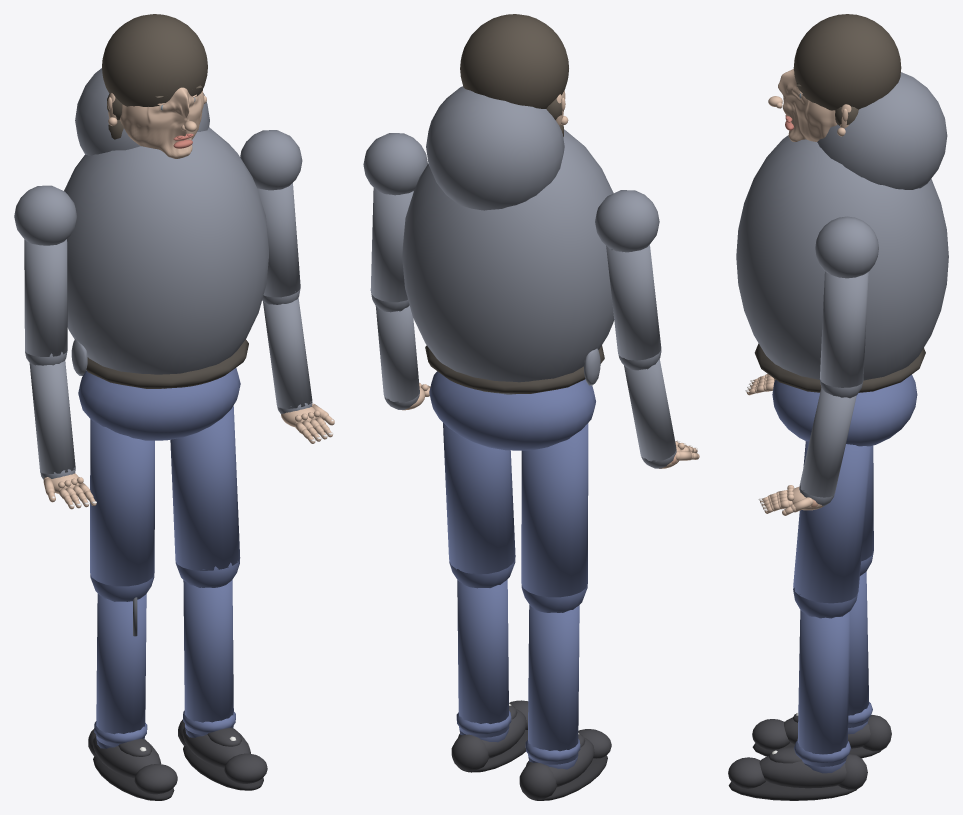
Rendered from hm_ped_noah_v7.glb.
3 views of the same model, side by side, from view 1: azimuth 30°, elevation 25°; view 2: azimuth 150°, elevation 25°; view 3: azimuth 270°, elevation 25° (orthographic). The views are drawn at different scales.
Visible parts, largest first — view 1: hm_ped_noah; view 2: hm_ped_noah; view 3: hm_ped_noah.
Boxes of the visible parts, <box> form: hm_ped_noah: <box>14,14,334,800</box>; hm_ped_noah: <box>363,14,699,800</box>; hm_ped_noah: <box>728,14,948,800</box>.
Size of the model in its own units: 0.7466 by 1.83 by 0.4848.
